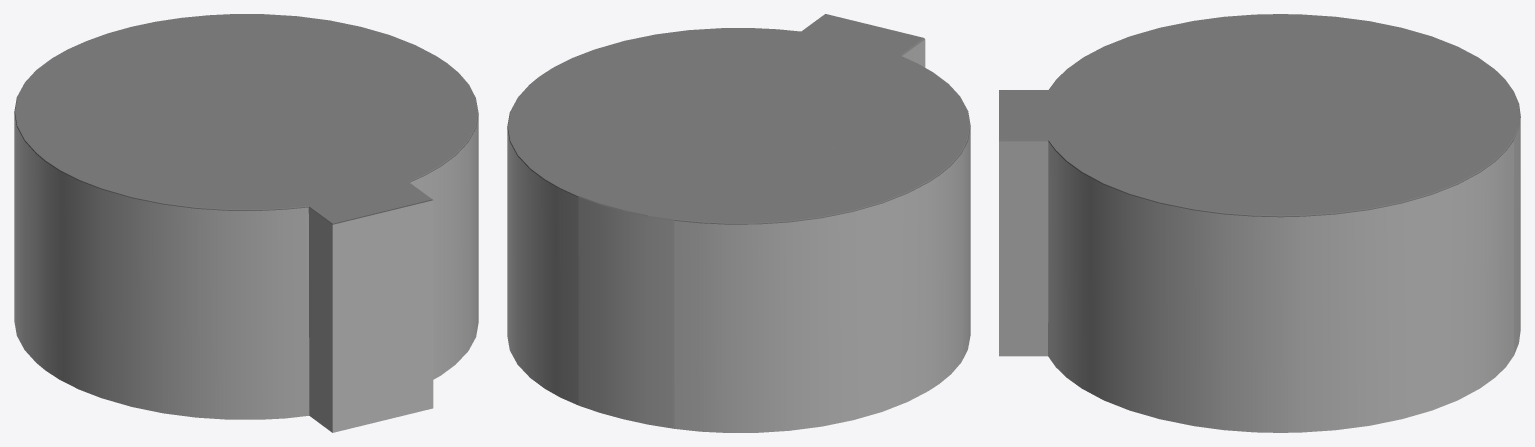
The model's file is block_circle_en_02.fbx.
The picture shows the model from 3 angles, left to right: view 1: azimuth 30°, elevation 25°; view 2: azimuth 150°, elevation 25°; view 3: azimuth 270°, elevation 25°; orthographic projection. The views are drawn at different scales.
Parts seen in each view (by area): view 1: block_circle_en_02; view 2: block_circle_en_02; view 3: block_circle_en_02.
Boxes of the visible parts, x1,y1,x2,y2 form: block_circle_en_02: [14, 14, 478, 432]; block_circle_en_02: [507, 14, 970, 432]; block_circle_en_02: [999, 14, 1520, 432].
Size of the model in its own units: 240 by 120 by 261.
